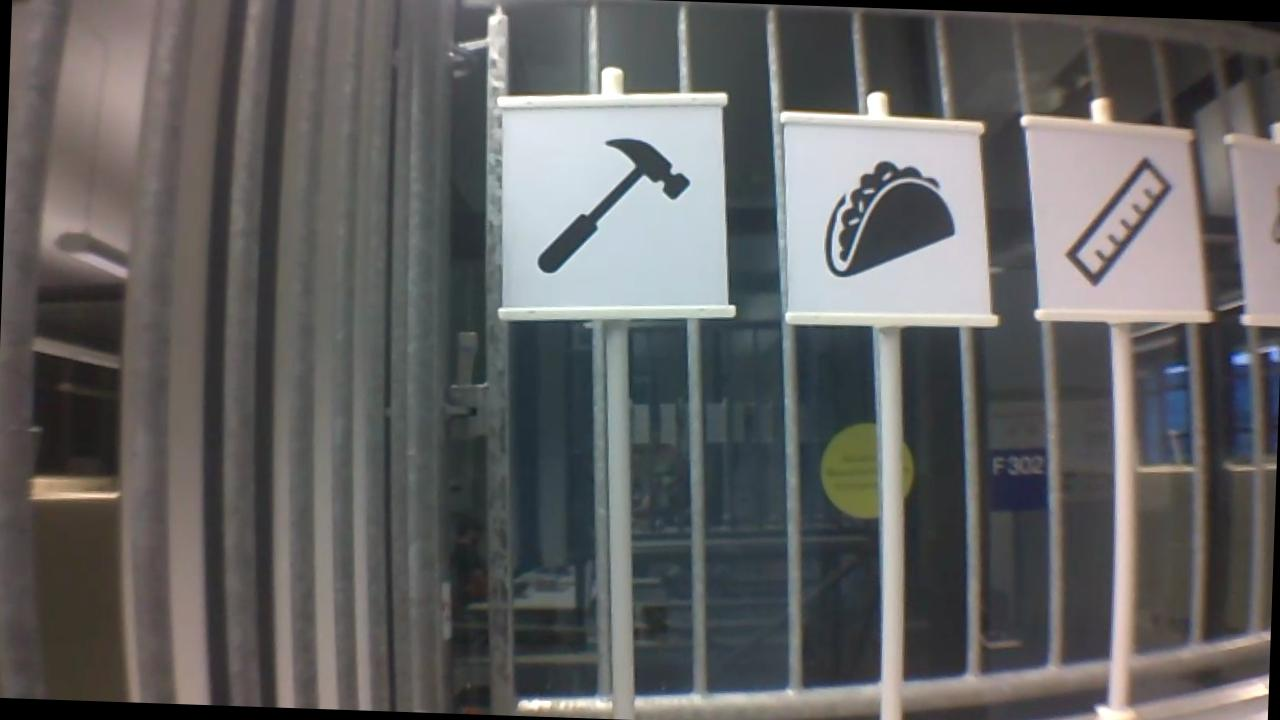hammer: (529, 129, 697, 285)
ruler: (1054, 149, 1180, 294)
taco: (818, 154, 965, 285)
